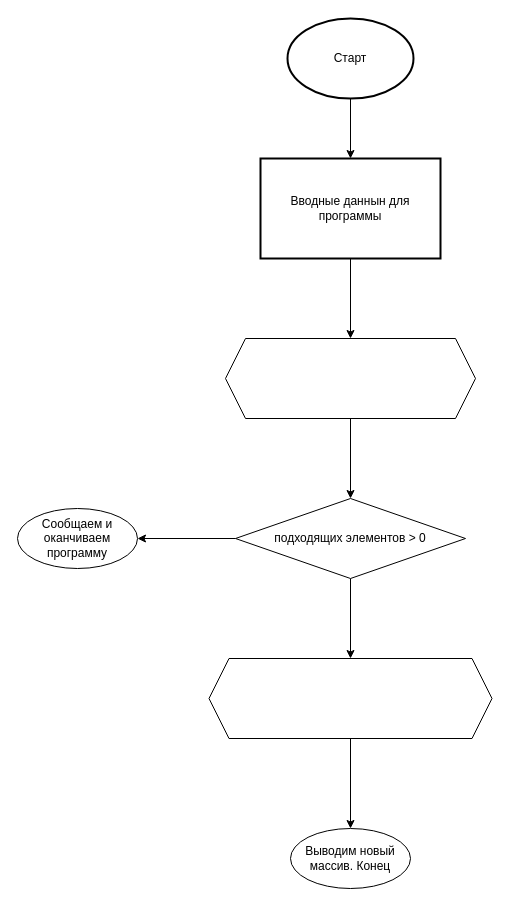
The diagram is 510 pixels wide and 906 high, and some of its shapes have lost their labels. Here are the shapes that lost their labels. From the top down, the centre of each, then its label:
point (350, 378): Считаем колличество элементов массива подходящих для второго массива
point (350, 698): формируем новый массив определённого ранее размера с новыми элементами
